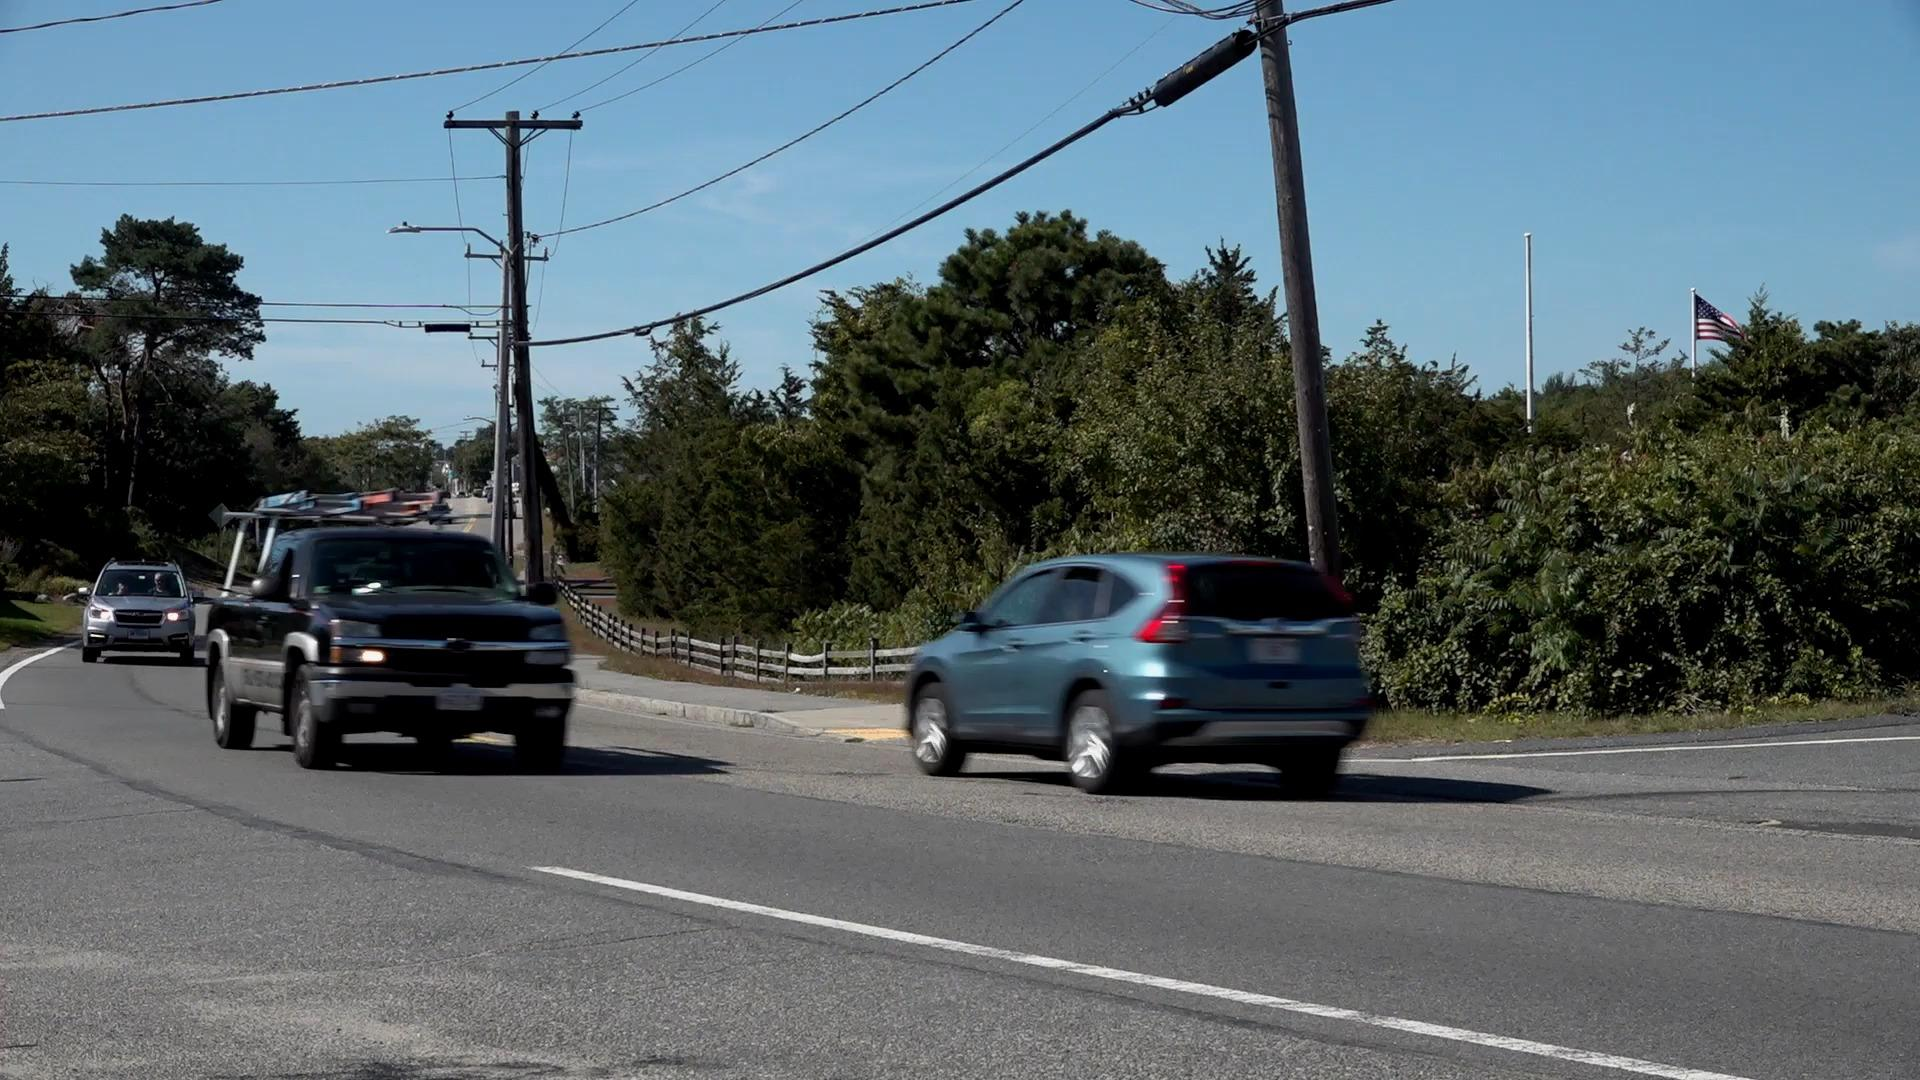pickup: (206, 522, 579, 767)
suv: (902, 555, 1369, 800), (84, 562, 196, 662)
